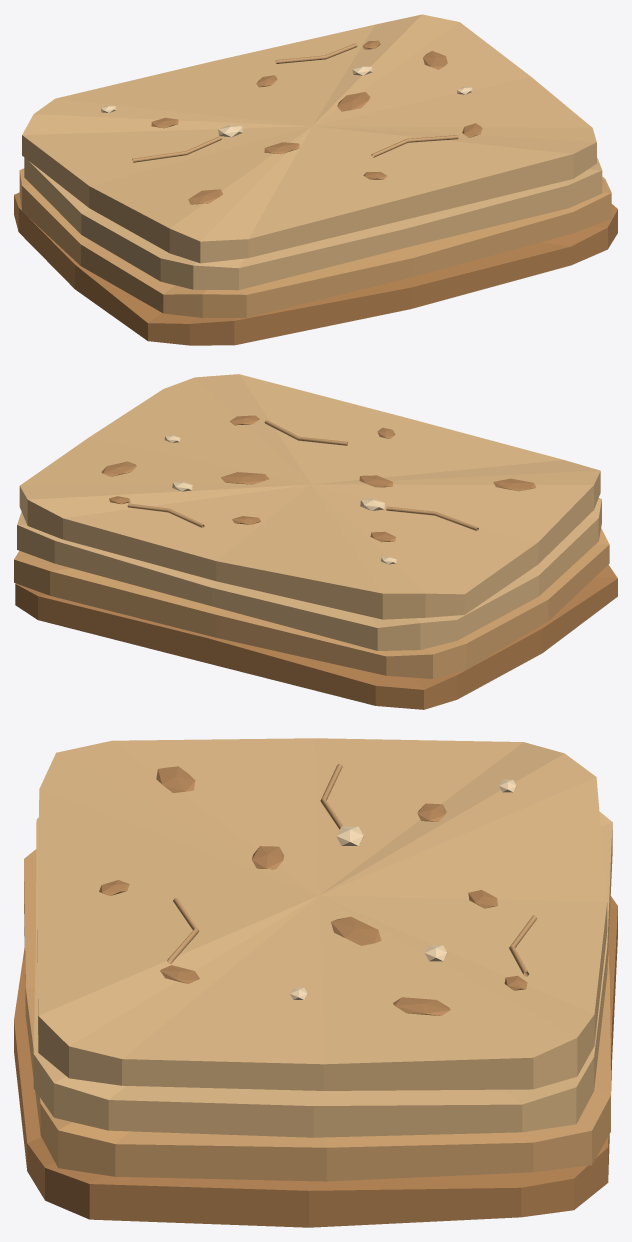
The model's file is fishcake.glb.
3 views of the same model, one above another, from view 1: azimuth 30°, elevation 25°; view 2: azimuth 150°, elevation 25°; view 3: azimuth 270°, elevation 25° (orthographic). The views are drawn at different scales.
Parts seen in each view (by area): view 1: fishcake_layer_3, fishcake_layer_0, fishcake_layer_1, fishcake_layer_2; view 2: fishcake_layer_3, fishcake_layer_1, fishcake_layer_0, fishcake_layer_2, toast_4; view 3: fishcake_layer_3, fishcake_layer_0, fishcake_layer_1, fishcake_layer_2, toast_4, toast_6, toast_0.
Boxes of the visible parts, left/top/right/bottom form: fishcake_layer_3: left=22, top=14, right=596, bottom=263; fishcake_layer_0: left=14, top=192, right=617, bottom=345; fishcake_layer_1: left=19, top=168, right=611, bottom=317; fishcake_layer_2: left=24, top=157, right=602, bottom=290; fishcake_layer_3: left=19, top=374, right=600, bottom=619; fishcake_layer_1: left=14, top=528, right=609, bottom=678; fishcake_layer_0: left=15, top=565, right=617, bottom=709; fishcake_layer_2: left=17, top=498, right=601, bottom=650; toast_4: left=221, top=472, right=269, bottom=484; fishcake_layer_3: left=37, top=738, right=607, bottom=1090; fishcake_layer_0: left=14, top=896, right=617, bottom=1227; fishcake_layer_1: left=24, top=849, right=610, bottom=1181; fishcake_layer_2: left=33, top=812, right=612, bottom=1137; toast_4: left=331, top=916, right=381, bottom=945; toast_6: left=393, top=997, right=450, bottom=1015; toast_0: left=156, top=766, right=195, bottom=792.
Bounding box in the file's own units: 0.3977 × 0.0949 × 0.2947.
